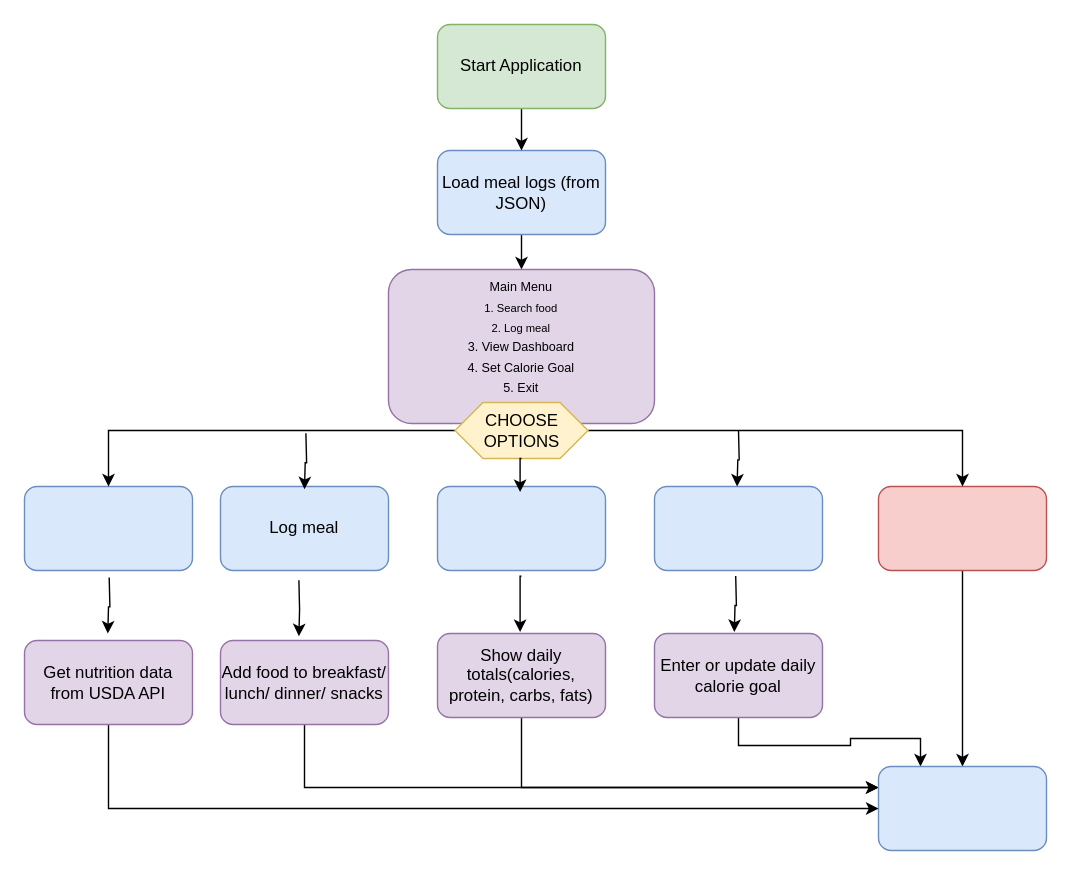
This 1071x875 diagram has some shape labels left out. Here are the shapes that lost their labels. From the top down, the box of each, then its label:
(23, 485, 192, 570): Search food
(436, 485, 606, 570): View Dashboard
(653, 485, 822, 570): Set Calorie goal
(877, 485, 1046, 570): Exit
(877, 765, 1046, 850): Return to main menu
